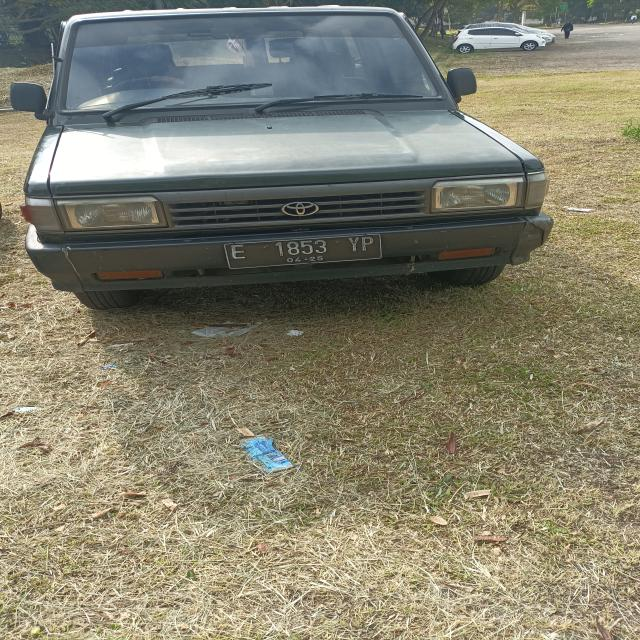license-plat: (213, 231, 394, 274)
